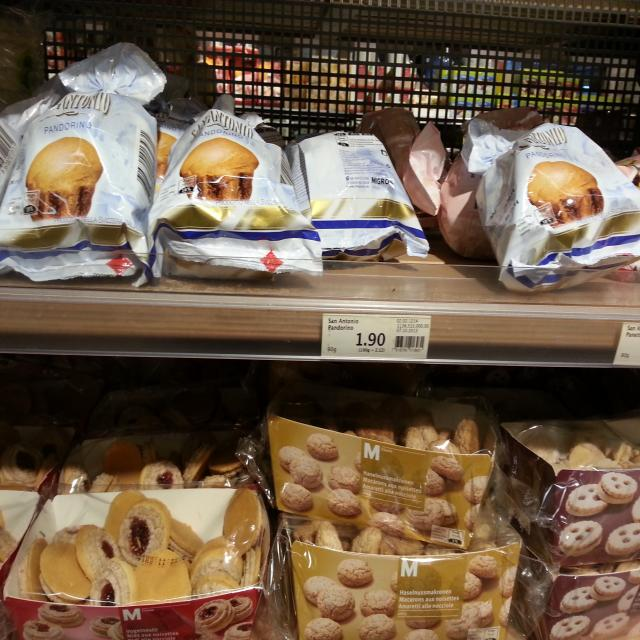Bakery: (3, 489, 268, 640), (267, 398, 500, 552), (282, 512, 522, 640), (0, 94, 156, 286), (150, 110, 322, 279), (476, 124, 640, 288), (496, 418, 640, 568), (288, 127, 429, 260), (514, 540, 640, 640)
